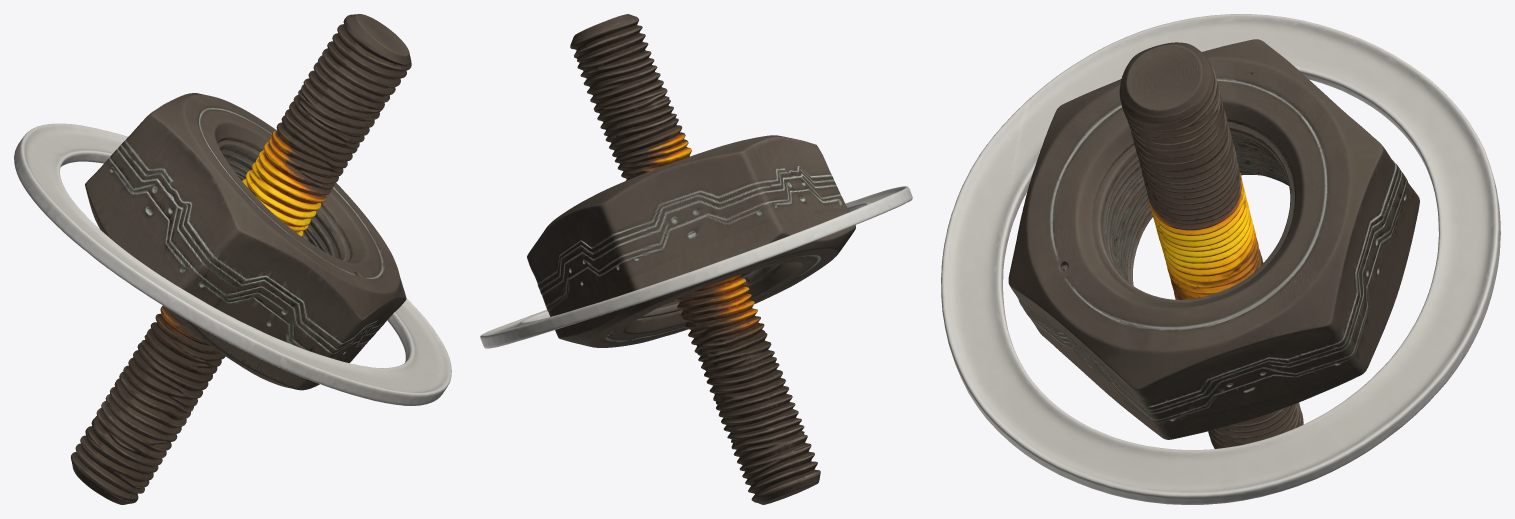
Rendered from hero.opt.glb.
The picture shows the model from 3 angles, left to right: view 1: azimuth 30°, elevation 25°; view 2: azimuth 150°, elevation 25°; view 3: azimuth 270°, elevation 25°; orthographic projection. The views are drawn at different scales.
Visible parts, largest first — view 1: tripo_node_1be211e3-a786-42c5-8886-4154f7281502; view 2: tripo_node_1be211e3-a786-42c5-8886-4154f7281502; view 3: tripo_node_1be211e3-a786-42c5-8886-4154f7281502.
Part boxes in pixels (left/top/right/bottom): tripo_node_1be211e3-a786-42c5-8886-4154f7281502: left=14, top=14, right=451, bottom=504; tripo_node_1be211e3-a786-42c5-8886-4154f7281502: left=480, top=14, right=912, bottom=504; tripo_node_1be211e3-a786-42c5-8886-4154f7281502: left=941, top=14, right=1500, bottom=504.
Size of the model in its own units: 0.8819 by 0.9803 by 0.927.
Materials: 1 (1 with a texture image).
